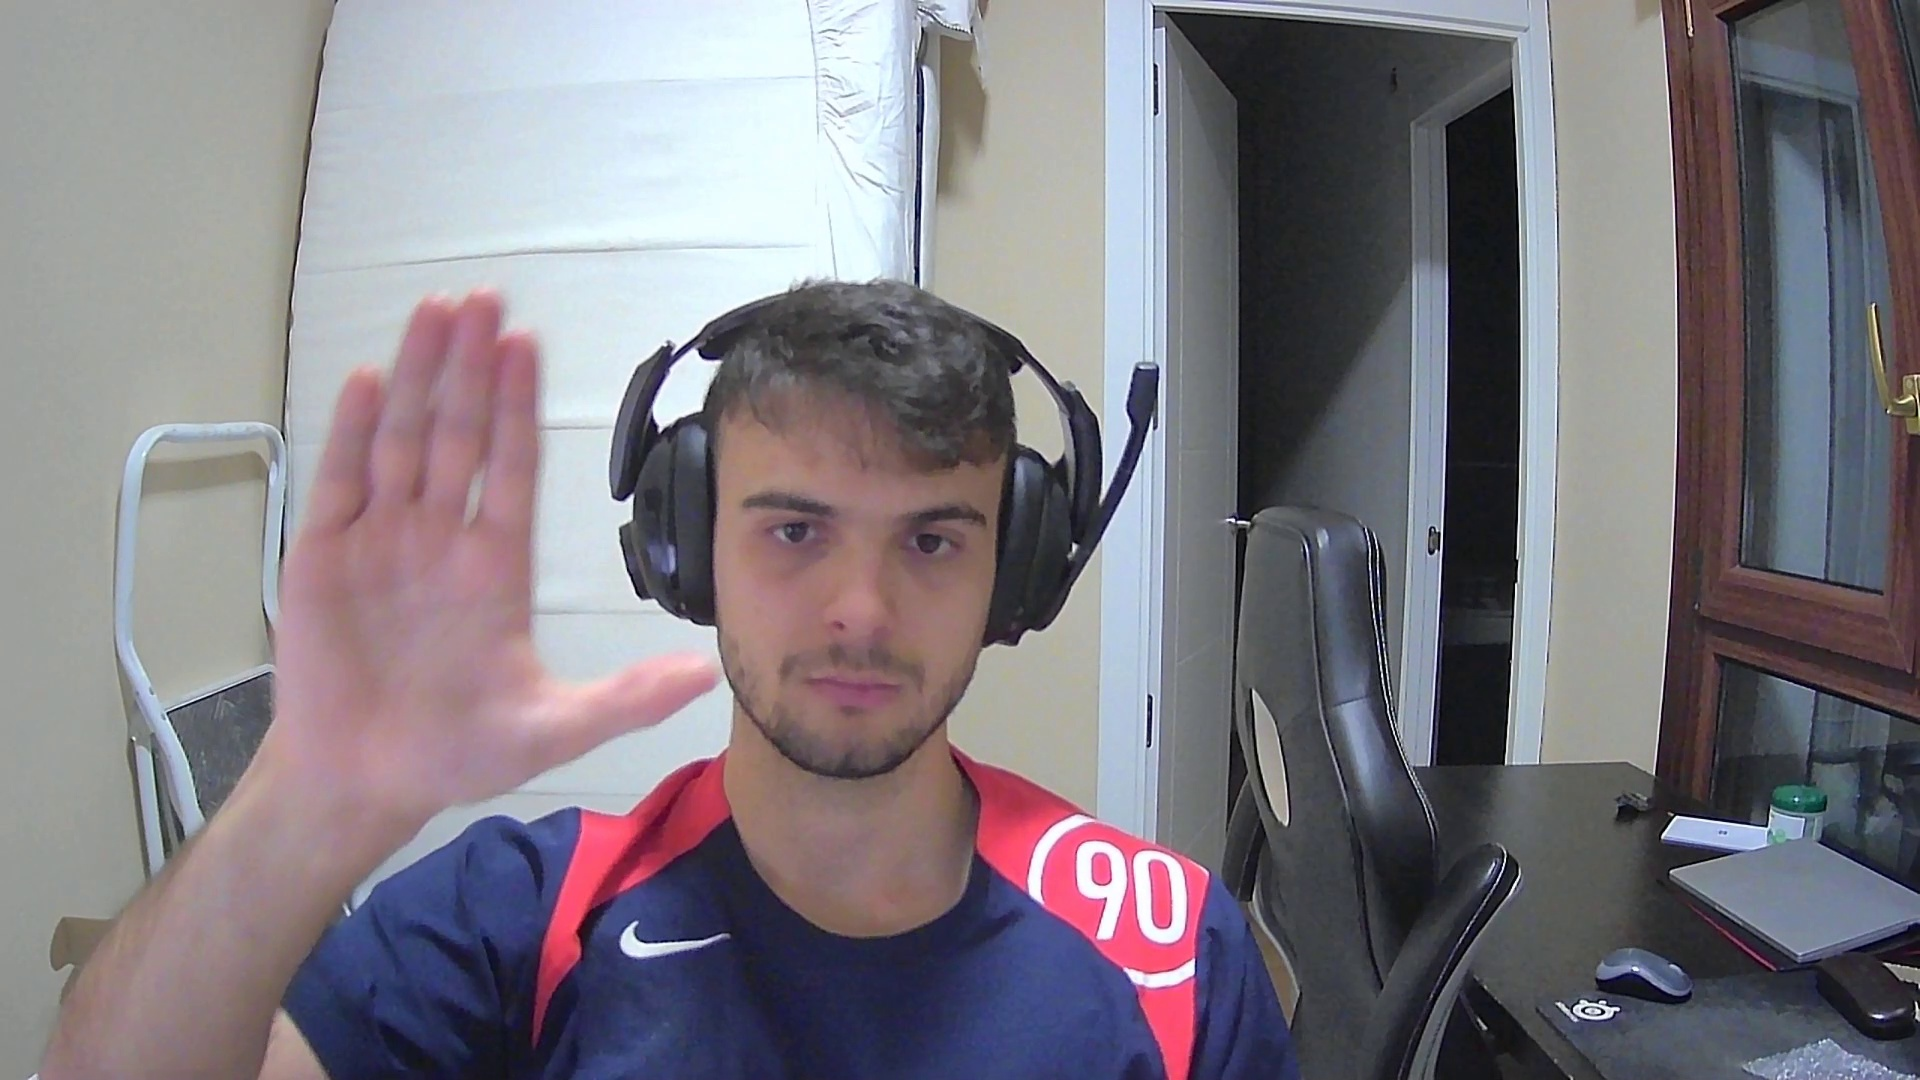Palm: (244, 285, 719, 793)
